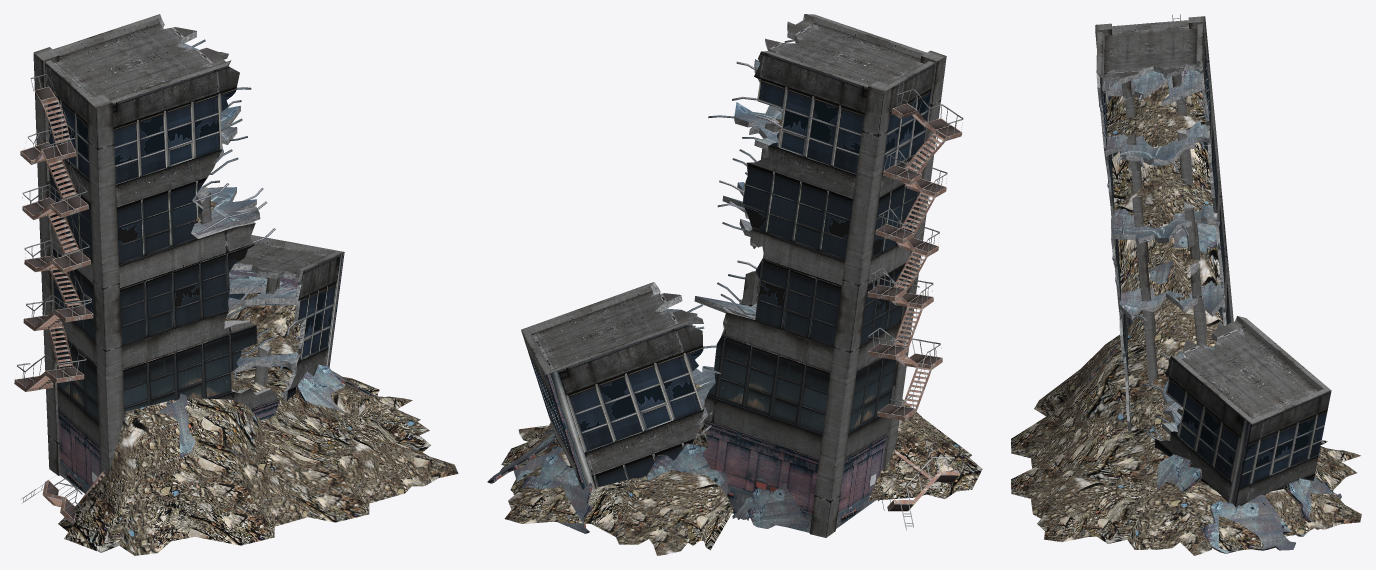
File: collapsed_building.glb
3 renders of one model, left to right at view 1: azimuth 30°, elevation 25°; view 2: azimuth 150°, elevation 25°; view 3: azimuth 270°, elevation 25°, orthographic. The views are drawn at different scales.
Visible parts, largest first — view 1: Destroyed_Industrial; view 2: Destroyed_Industrial; view 3: Destroyed_Industrial.
Part boxes in pixels (x1,y1,x2,y2): Destroyed_Industrial: [14, 14, 458, 555]; Destroyed_Industrial: [487, 14, 982, 555]; Destroyed_Industrial: [1011, 14, 1361, 555].
Bounding box in the file's own units: 23.12 × 25.04 × 19.7.
Materials: 4 (3 with a texture image).
